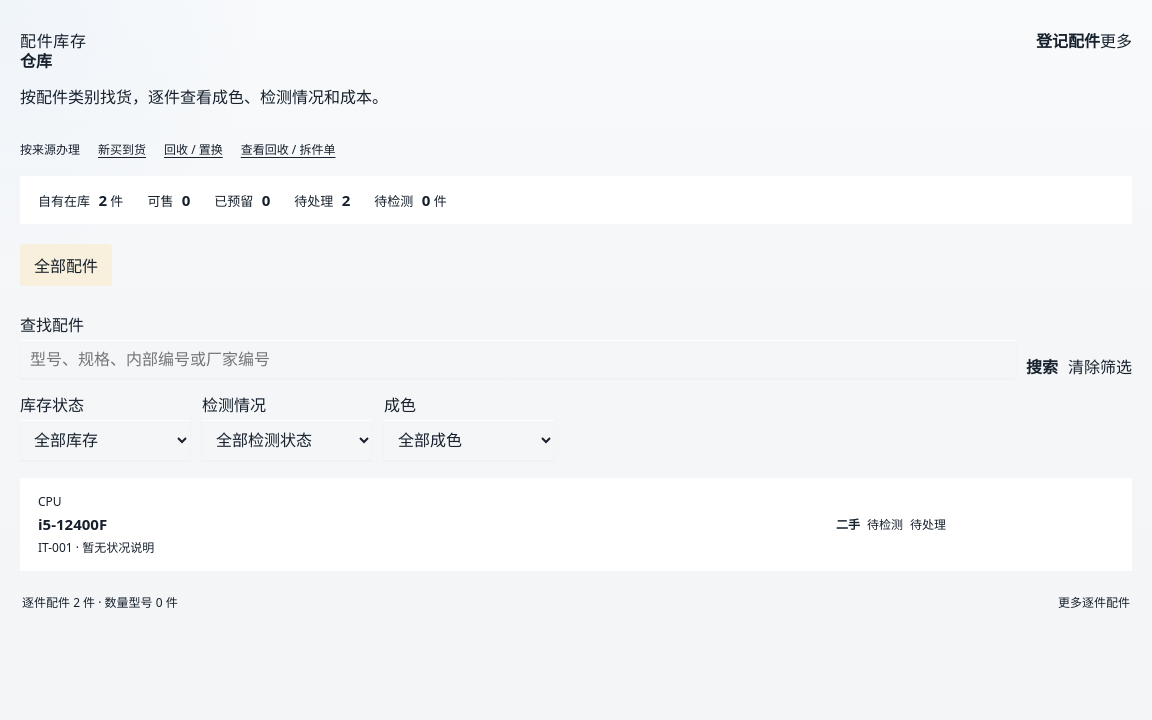
Test: U03 配件仓库页面 › 加载下一页时保留已经显示的逐件配件
Expected: the button "CPU i5-12400F IT-001 · 暂无状况说明 二手 待检测 待处理" is shown, [20, 478, 1132, 571]
What coordinates should you click on to do the following:
click the button "更多逐件配件"
I would click on:
 (1094, 602)
Its box is [1058, 593, 1130, 611].
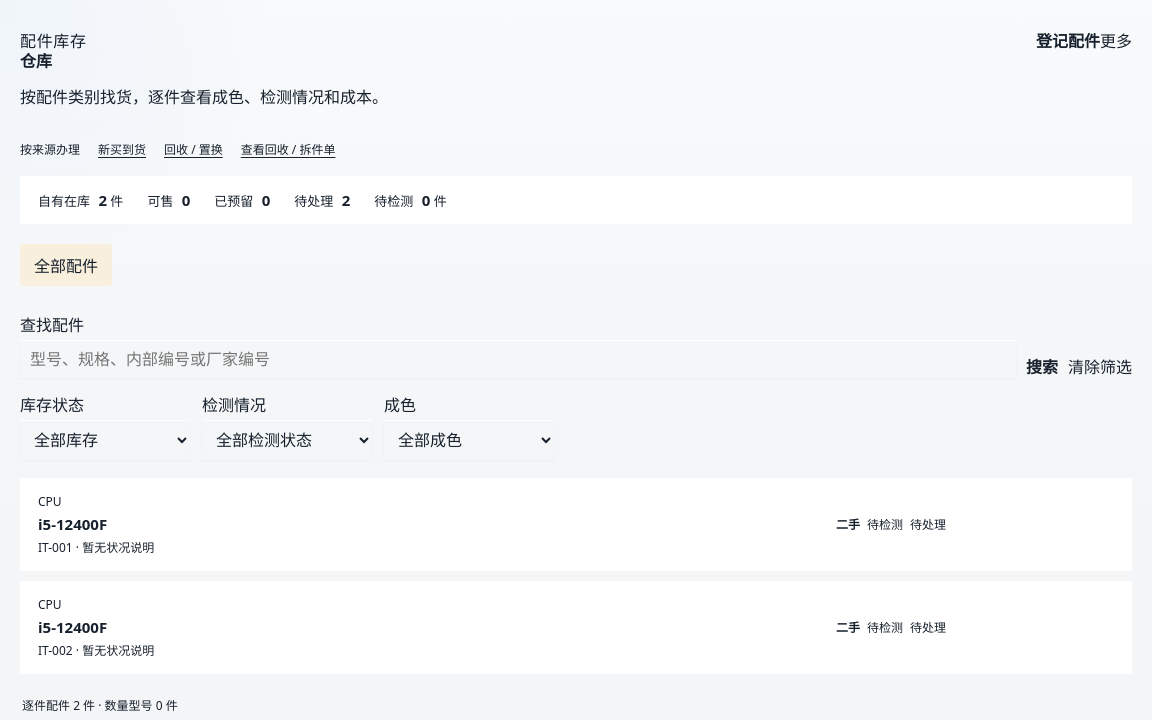
Expected: the button "CPU i5-12400F IT-001 · 暂无状况说明 二手 待检测 待处理" is shown, [20, 478, 1132, 571]
Expected: the button "CPU i5-12400F IT-002 · 暂无状况说明 二手 待检测 待处理" is shown, [20, 581, 1132, 674]
